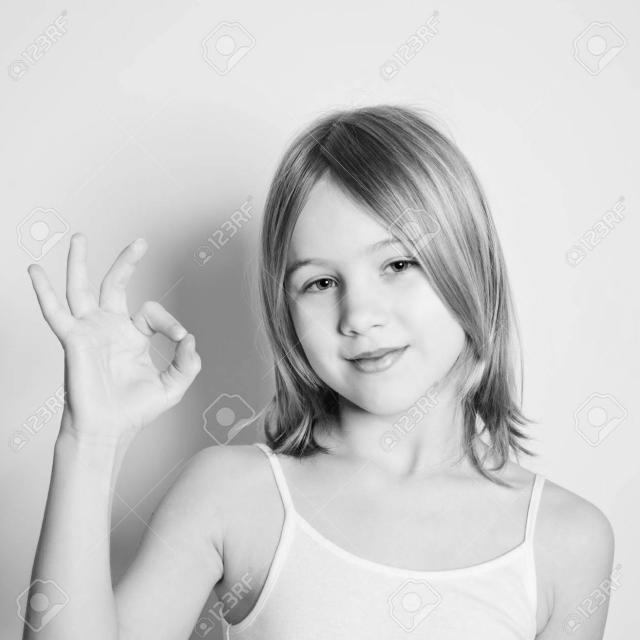perfect: (23, 224, 206, 451)
